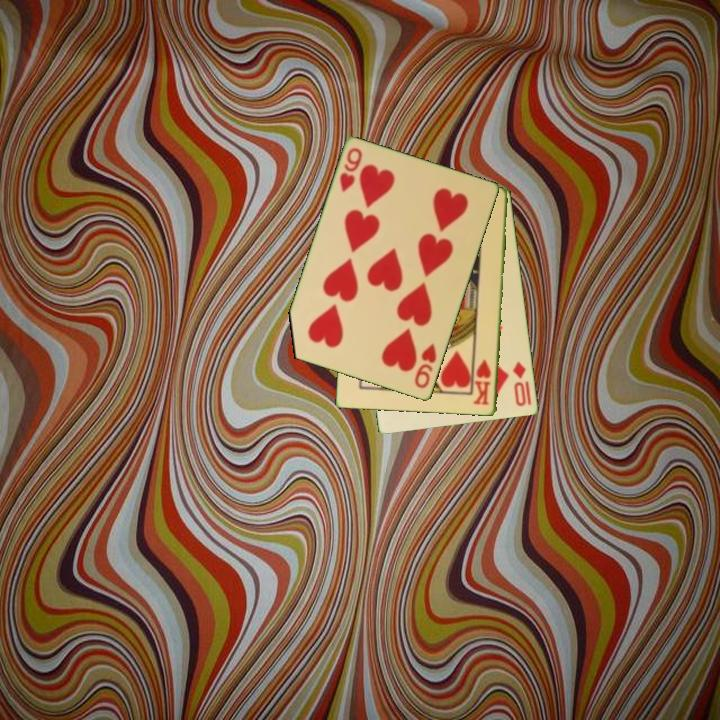10d: (510, 358, 529, 409)
9h: (411, 340, 440, 392), (336, 144, 365, 196)
Kh: (471, 357, 494, 408)
